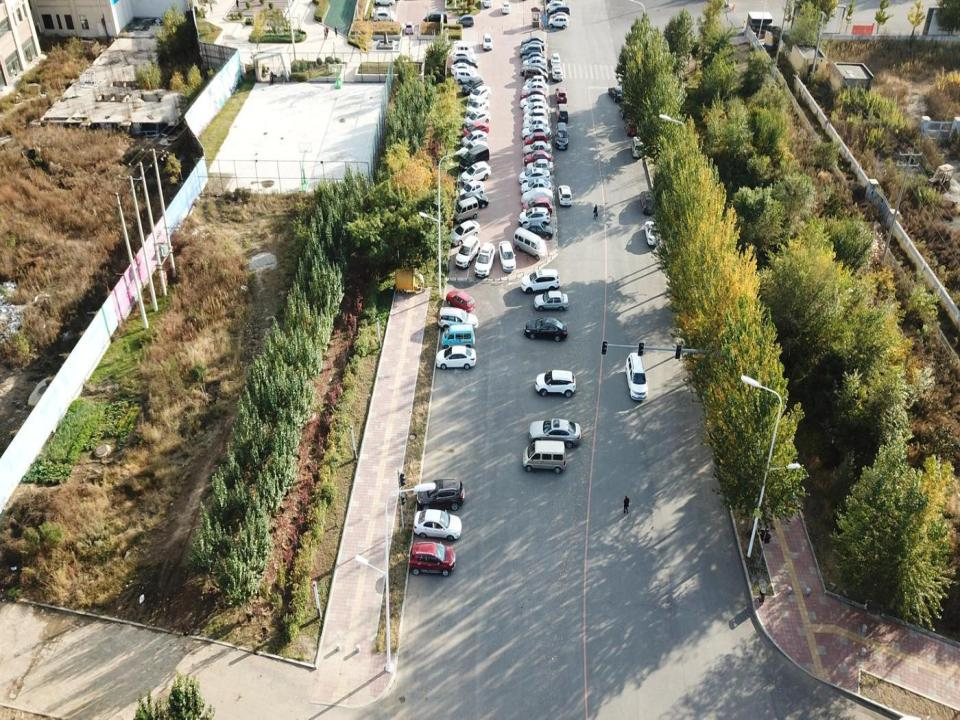car: (526, 417, 581, 448), (408, 542, 457, 576), (414, 508, 462, 542), (414, 479, 465, 506), (438, 307, 478, 334), (626, 350, 647, 401), (524, 317, 568, 341), (437, 344, 476, 371), (536, 371, 574, 397), (449, 219, 481, 248), (534, 288, 569, 312), (452, 236, 479, 267), (474, 242, 496, 279), (461, 161, 490, 189), (446, 290, 474, 314), (458, 180, 485, 202), (522, 221, 553, 240), (499, 241, 517, 273), (518, 208, 550, 225), (522, 189, 554, 205), (459, 193, 489, 210), (519, 169, 550, 185), (521, 198, 552, 214), (521, 179, 554, 194), (640, 191, 656, 219), (645, 218, 660, 246), (523, 141, 552, 155), (451, 62, 477, 77), (466, 110, 490, 126), (527, 159, 554, 173), (556, 121, 569, 150), (525, 152, 552, 165), (453, 57, 478, 71), (455, 70, 480, 84), (522, 126, 551, 138), (462, 79, 485, 94), (468, 86, 491, 101), (467, 99, 490, 114), (556, 102, 570, 126), (374, 10, 396, 25), (521, 90, 548, 102), (523, 102, 550, 114), (523, 110, 550, 122), (558, 184, 572, 207), (521, 95, 547, 107), (523, 117, 549, 129), (620, 98, 634, 120), (609, 83, 625, 102), (452, 49, 475, 62), (521, 36, 545, 48), (521, 64, 547, 75), (456, 13, 475, 28), (625, 116, 639, 136), (548, 15, 568, 29), (522, 40, 545, 52), (520, 44, 543, 56), (374, 6, 395, 19), (522, 57, 546, 68), (525, 132, 547, 144), (525, 70, 551, 80), (522, 82, 548, 92), (456, 43, 474, 57), (555, 83, 568, 102), (523, 53, 545, 62), (524, 76, 546, 85), (482, 35, 494, 51), (500, 1, 512, 15), (404, 20, 415, 35), (552, 65, 562, 81), (550, 54, 560, 70), (483, 0, 493, 8)
van: (522, 440, 568, 474), (513, 230, 546, 260), (460, 145, 489, 172), (442, 324, 474, 348), (454, 197, 479, 223), (423, 12, 449, 31), (631, 137, 643, 158)
